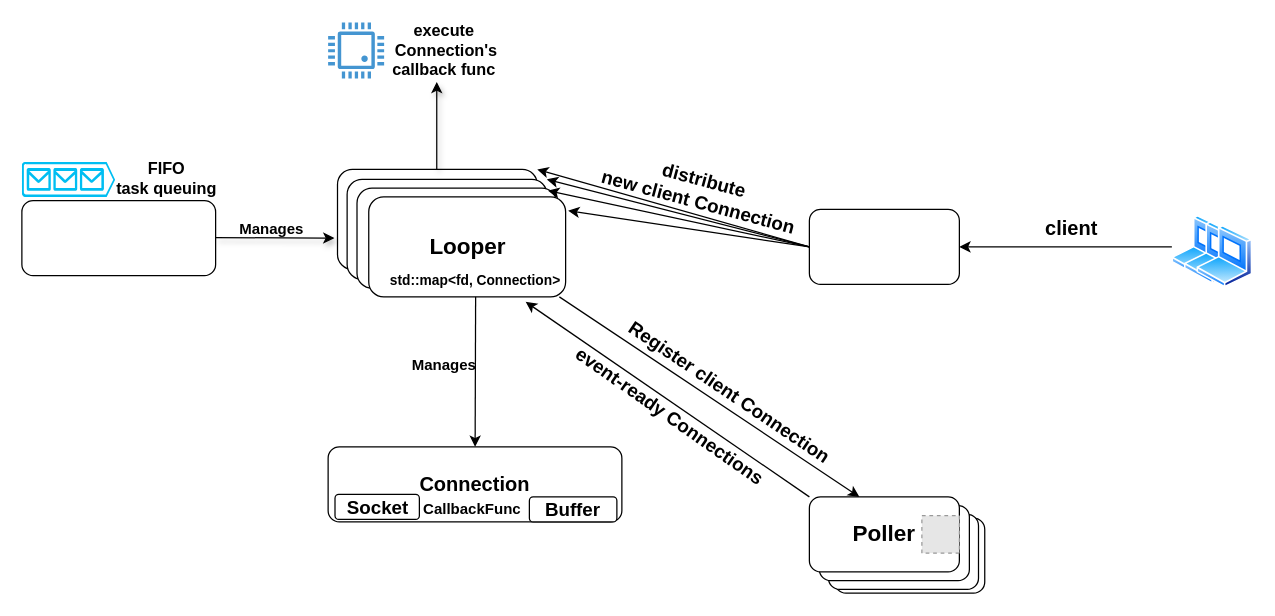
Some shapes in this 1275 by 616 pixel diagram are drawn without their labels. Grey dashed boxes stand in for pictures. The shapes that lost their labels are listed below. From the top down, each one's centre as x and y in pixels, then its label:
At (118,237): "ThreadPool".
At (883,246): "Acceptor".
